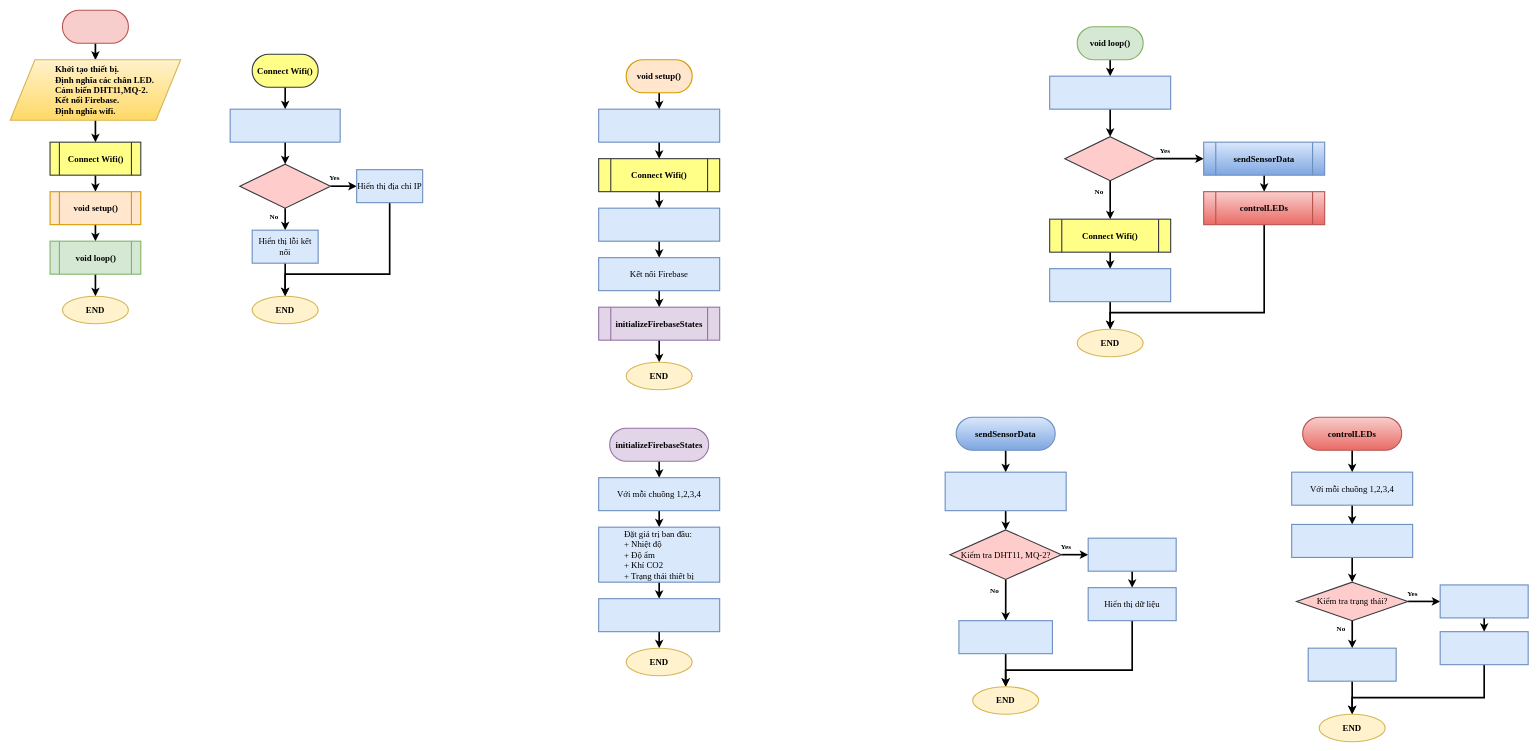
Some shapes in this 1538 by 751 pixel diagram are drawn without their labels. Each missing label, with the box of its shape:
BEGIN: (62, 9, 129, 43)
Bật/tắt LED tương ứng với các chuồng: (1439, 584, 1528, 618)
Cấu hình chân LED: (598, 108, 720, 142)
Cập nhật trạng thái kết nối: (1049, 268, 1171, 302)
Gửi nhiệt độ, độ ẩm, CO2 lên Firebase: (1087, 537, 1176, 571)
Hiển thị lỗi DHT11, MQ-2: (958, 620, 1053, 654)
Hiển thị lỗi đọc trạng thái: (1307, 647, 1396, 681)
Hiển thị trạng thái LED: (1439, 631, 1528, 665)
Hiển thị: "Khởi tạo hoàn tất": (598, 598, 720, 632)
Khởi động cảm biến DHT11, MQ-2: (598, 207, 720, 241)
Kiểm tra kết nối?: (239, 163, 331, 208)
Kiểm tra Wifi?: (1064, 136, 1156, 181)
Nếu có kết nối: "Đang kết nối với Wifi": (229, 108, 340, 142)
Nếu qua 2s: (1049, 75, 1171, 109)
Đọc cảm biến: + DHT11 (nhiệt độ, độ ẩm) + MQ-2: CO2: (944, 471, 1066, 511)
Đọc trạng thái thiết bị (pump, fan, heater): (1291, 524, 1413, 558)
